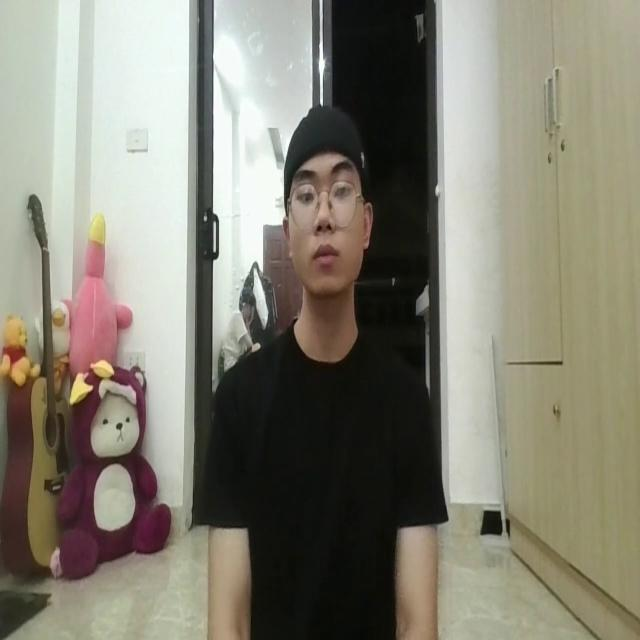student: (210, 103, 441, 640)
